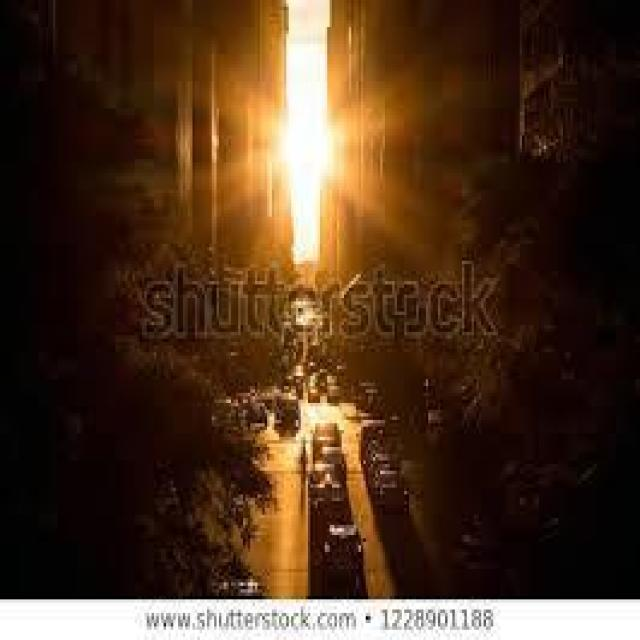other: (244, 41, 378, 239)
